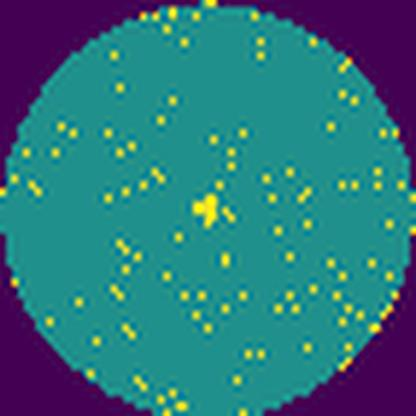Center: (194, 194, 218, 232)
